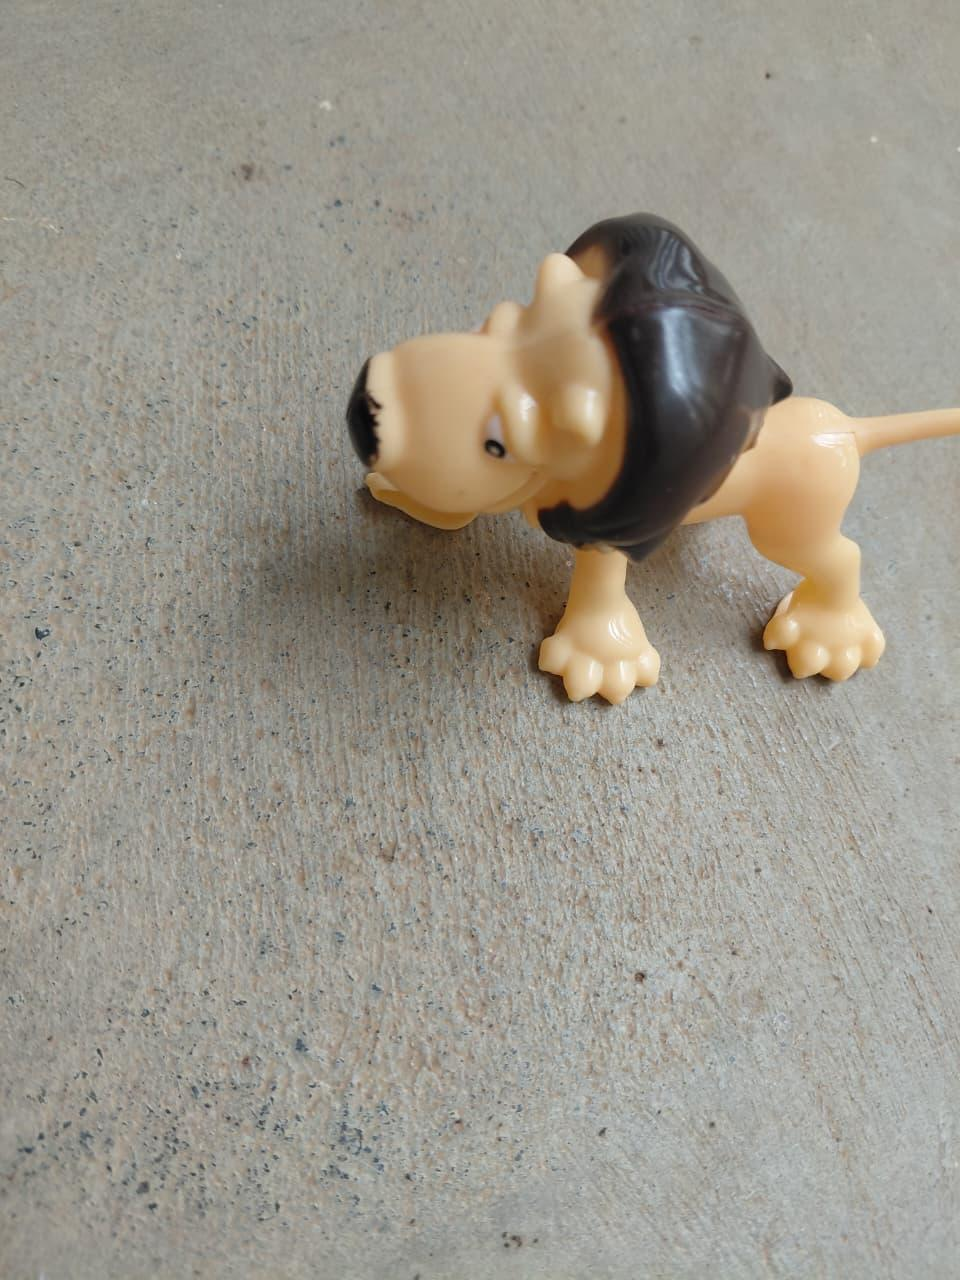lion: (330, 175, 946, 713)
